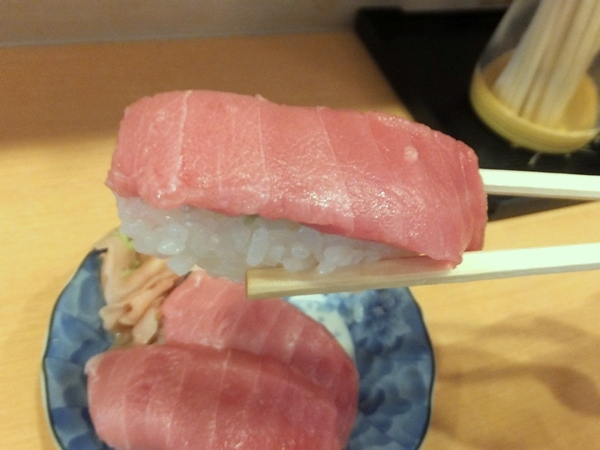medium_fatty_tuna: (107, 91, 490, 289)
